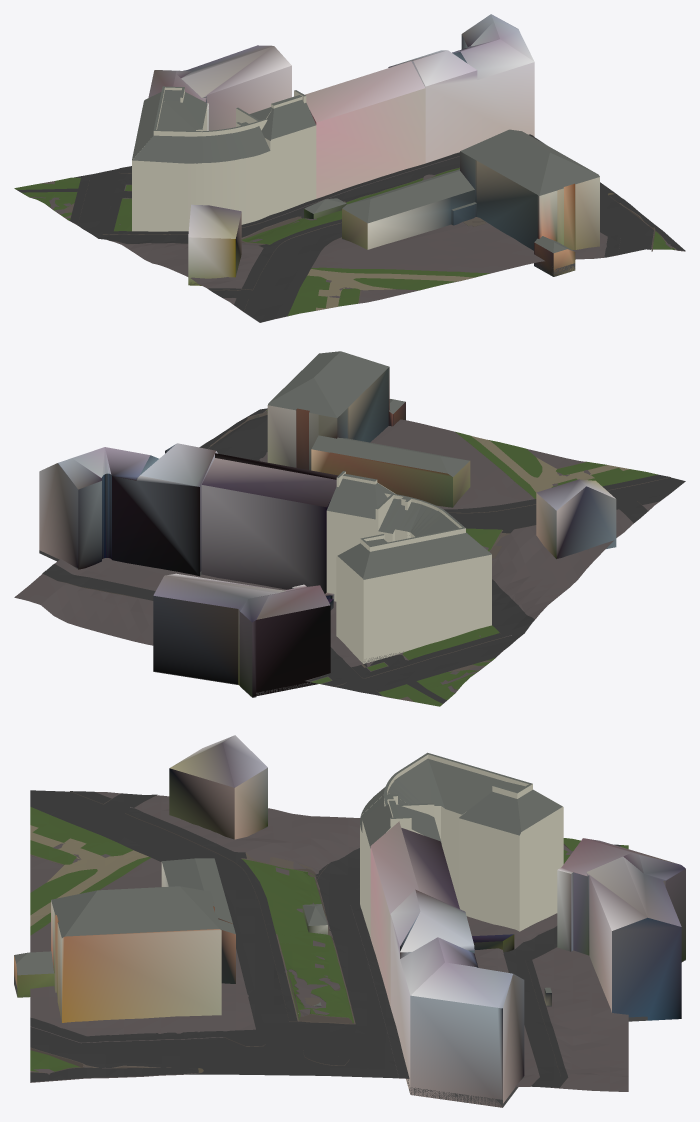
3 renders of one model, top to bottom at view 1: azimuth 30°, elevation 25°; view 2: azimuth 150°, elevation 25°; view 3: azimuth 270°, elevation 25°, orthographic. The views are drawn at different scales.
Visible parts, largest first — view 1: c_p02_m15; view 2: c_p02_m15; view 3: c_p02_m15.
Boxes of the visible parts, x1,y1,x2,y2 form: c_p02_m15: (14, 14, 685, 322); c_p02_m15: (14, 351, 685, 706); c_p02_m15: (14, 735, 685, 1107).
Size of the model in its own units: 136 by 38.01 by 144.
